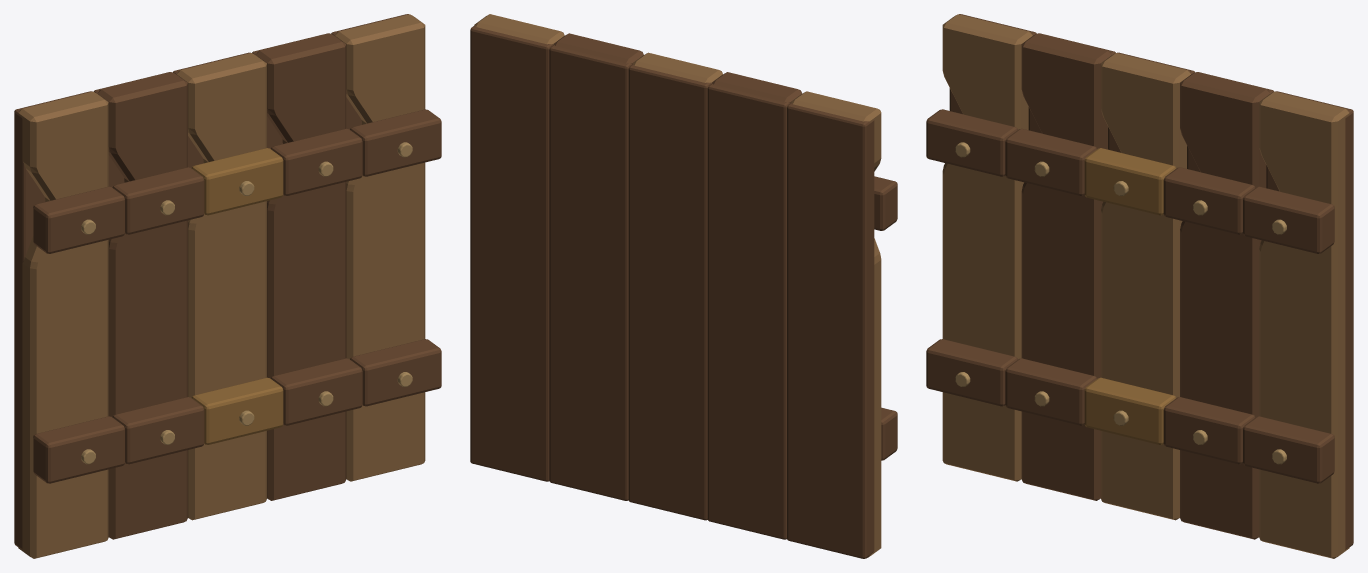
File: TIMBER_BREAK_WALL.hi.glb
3 views of the same model, side by side, from view 1: azimuth 30°, elevation 25°; view 2: azimuth 150°, elevation 25°; view 3: azimuth 330°, elevation 25° (orthographic).
Visible parts, largest first — view 1: BreakGroup0_Mesh, BreakGroup1_Mesh, BreakGroup3_Mesh, BreakGroup4_Mesh, BreakGroup2_Mesh; view 2: BreakGroup0_Mesh, BreakGroup2_Mesh, BreakGroup3_Mesh, BreakGroup4_Mesh, BreakGroup1_Mesh; view 3: BreakGroup4_Mesh, BreakGroup3_Mesh, BreakGroup0_Mesh, BreakGroup1_Mesh, BreakGroup2_Mesh.
Part boxes in pixels (x1,y1,x2,y2): BreakGroup0_Mesh: (14, 91, 124, 558); BreakGroup1_Mesh: (94, 72, 204, 539); BreakGroup3_Mesh: (252, 33, 362, 500); BreakGroup4_Mesh: (331, 14, 441, 481); BreakGroup2_Mesh: (173, 52, 283, 520); BreakGroup0_Mesh: (787, 91, 897, 558); BreakGroup2_Mesh: (628, 52, 722, 520); BreakGroup3_Mesh: (549, 33, 643, 500); BreakGroup4_Mesh: (470, 14, 564, 481); BreakGroup1_Mesh: (707, 72, 802, 539); BreakGroup4_Mesh: (1243, 91, 1353, 558); BreakGroup3_Mesh: (1163, 72, 1273, 539); BreakGroup0_Mesh: (926, 14, 1036, 481); BreakGroup1_Mesh: (1005, 33, 1115, 500); BreakGroup2_Mesh: (1084, 52, 1194, 520).
Size of the model in its own units: 1.43 by 1.52 by 0.2325.
